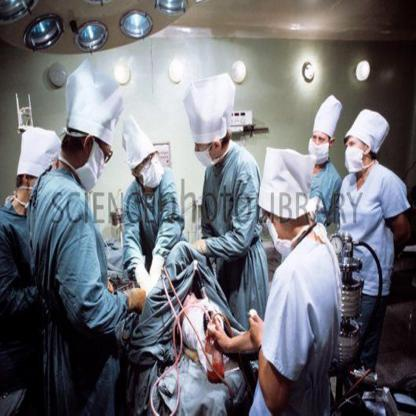face: (83, 133, 112, 191), (263, 198, 290, 254), (138, 150, 164, 189), (345, 134, 367, 172), (195, 130, 214, 167), (312, 127, 330, 160)
